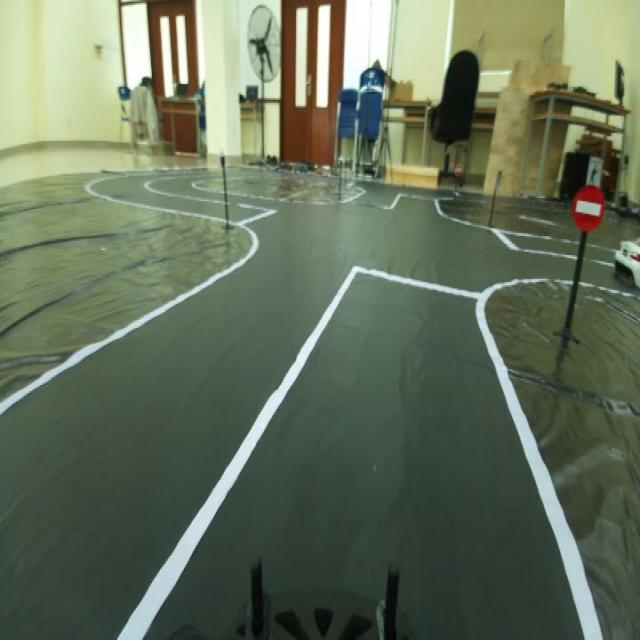no_entry: (573, 174, 605, 236)
